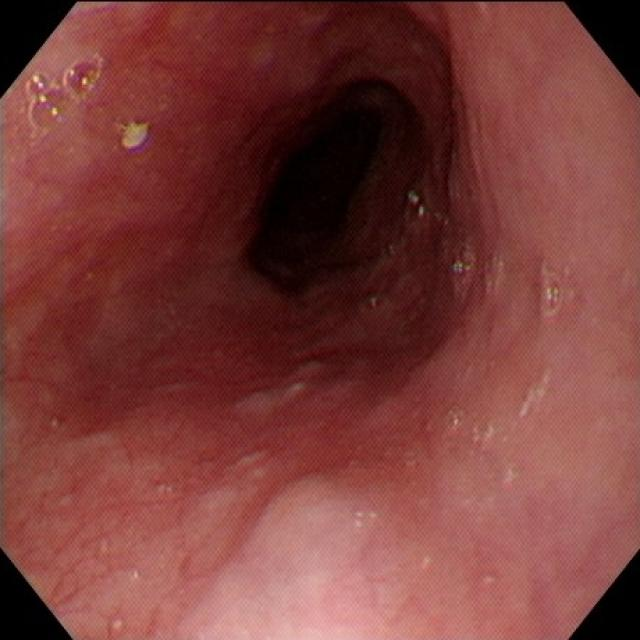E: (252, 99, 421, 295)
J: (231, 359, 345, 418)
T: (23, 54, 104, 133), (537, 265, 565, 320)
U: (122, 122, 153, 158)
